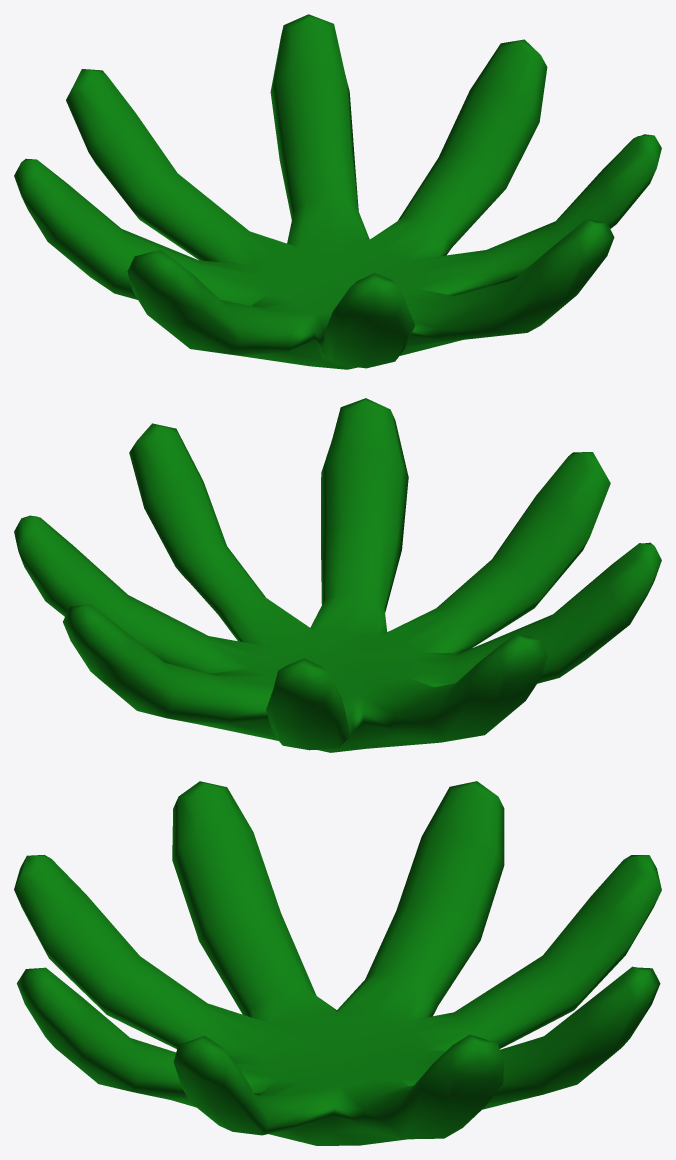
File: SM_Bush_06.fbx
3 renders of one model, top to bottom at view 1: azimuth 30°, elevation 25°; view 2: azimuth 150°, elevation 25°; view 3: azimuth 270°, elevation 25°, orthographic. The views are drawn at different scales.
Visible parts, largest first — view 1: SM_Bush_06; view 2: SM_Bush_06; view 3: SM_Bush_06.
Part boxes in pixels (box(x1,y1,x2,y2)): SM_Bush_06: box(14, 14, 661, 369); SM_Bush_06: box(14, 398, 661, 752); SM_Bush_06: box(14, 781, 661, 1145).
Size of the model in its own units: 435 by 161 by 436.
